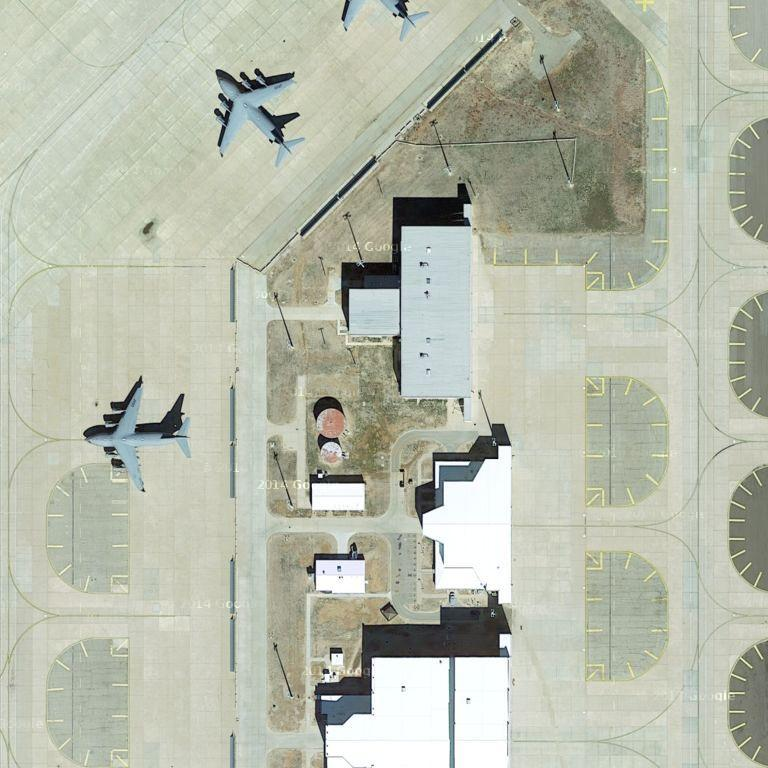C-17: (83, 377, 197, 496), (209, 68, 312, 171)
